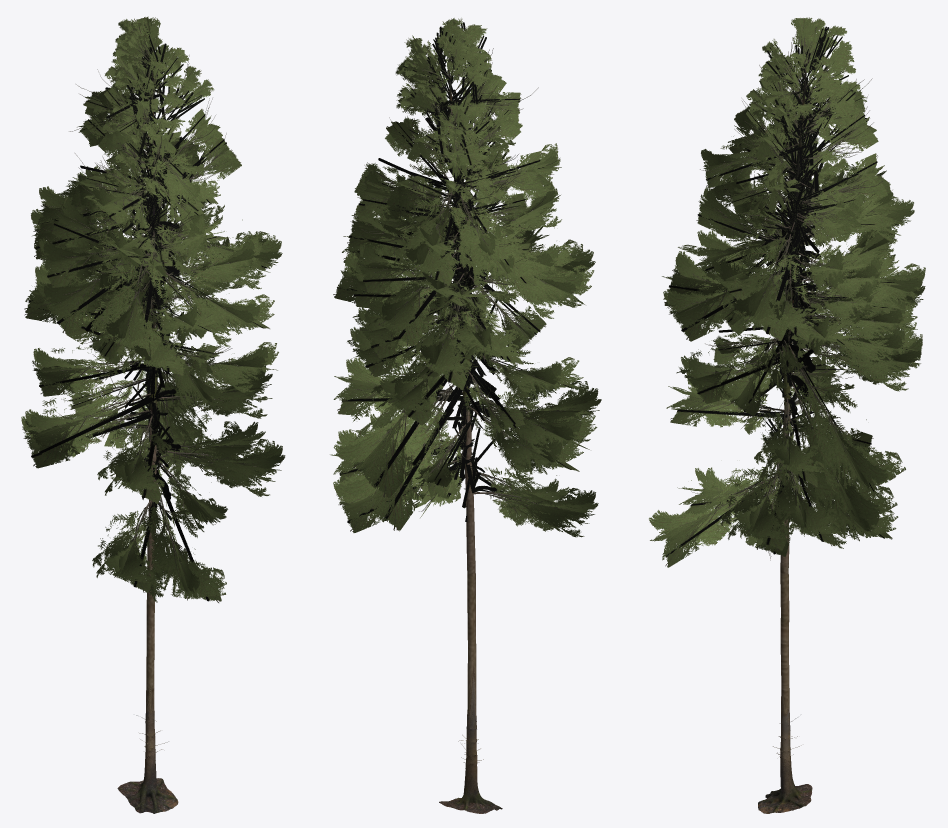
The model's file is tree_conifer_near.glb.
The picture shows the model from 3 angles, left to right: view 1: azimuth 30°, elevation 25°; view 2: azimuth 150°, elevation 25°; view 3: azimuth 270°, elevation 25°; orthographic projection. The views are drawn at different scales.
Visible parts, largest first — view 1: tree_conifer_near; view 2: tree_conifer_near; view 3: tree_conifer_near.
Boxes of the visible parts, left/top/right/bottom form: tree_conifer_near: left=21, top=16, right=285, bottom=813; tree_conifer_near: left=330, top=18, right=601, bottom=813; tree_conifer_near: left=649, top=17, right=925, bottom=813.
Bounding box in the file's own units: 6.14 × 18.75 × 6.33.
Materials: 3 (3 with a texture image).
